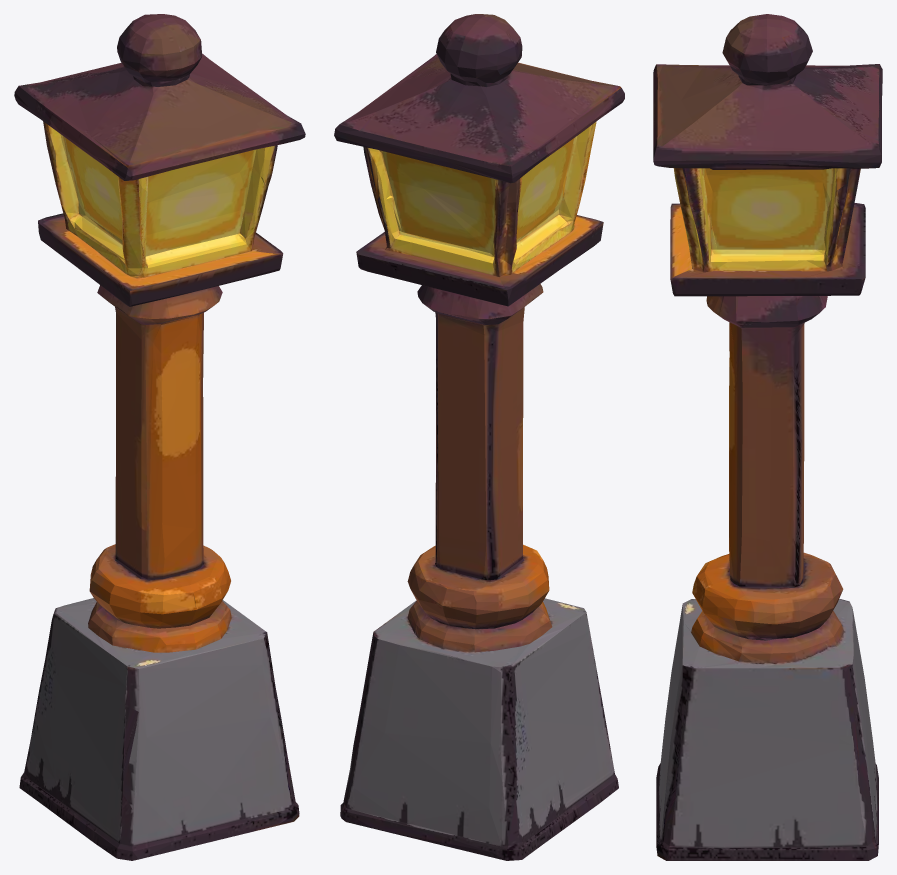
Rendered from lampione.glb.
The picture shows the model from 3 angles, left to right: view 1: azimuth 30°, elevation 25°; view 2: azimuth 150°, elevation 25°; view 3: azimuth 270°, elevation 25°; orthographic projection.
Visible parts, largest first — view 1: geometry_0; view 2: geometry_0; view 3: geometry_0.
Boxes of the visible parts, x1=… form: geometry_0: x1=14, y1=14, x2=305, y2=860; geometry_0: x1=334, y1=14, x2=624, y2=860; geometry_0: x1=653, y1=14, x2=882, y2=860.
Bounding box in the file's own units: 0.9334 × 3.8 × 0.9911.
Materials: 1 (1 with a texture image).
